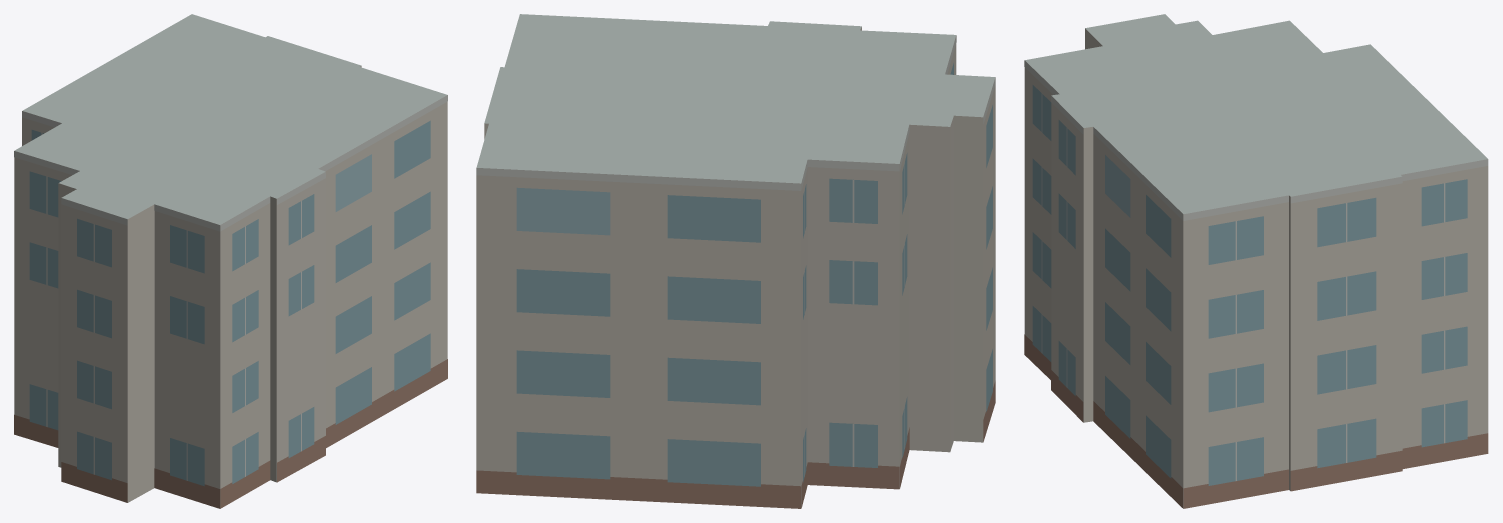
The model's file is survey-upis-33002377.glb.
3 views of the same model, side by side, from view 1: azimuth 30°, elevation 25°; view 2: azimuth 150°, elevation 25°; view 3: azimuth 270°, elevation 25° (orthographic). The views are drawn at different scales.
Visible parts, largest first — view 1: survey-upis-33002377.tmp; view 2: survey-upis-33002377.tmp; view 3: survey-upis-33002377.tmp.
Part boxes in pixels (<box>): survey-upis-33002377.tmp: <box>14,14,447,508</box>; survey-upis-33002377.tmp: <box>476,14,995,508</box>; survey-upis-33002377.tmp: <box>1024,14,1488,508</box>.
Bounding box in the file's own units: 15.61 × 10.7 × 15.28.
